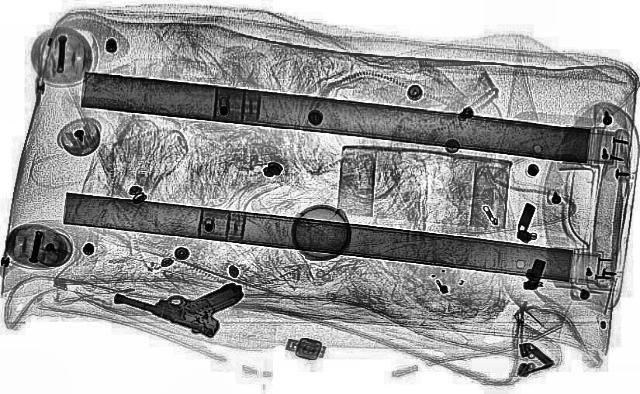Gun: (104, 269, 246, 337)
